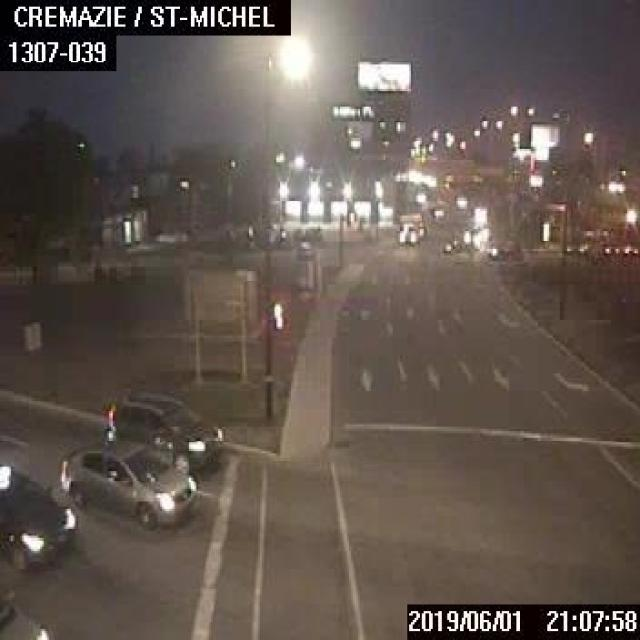vehicle: (59, 429, 195, 528), (102, 388, 222, 474), (0, 464, 75, 566), (0, 582, 51, 638), (486, 239, 522, 259), (396, 222, 417, 244)
